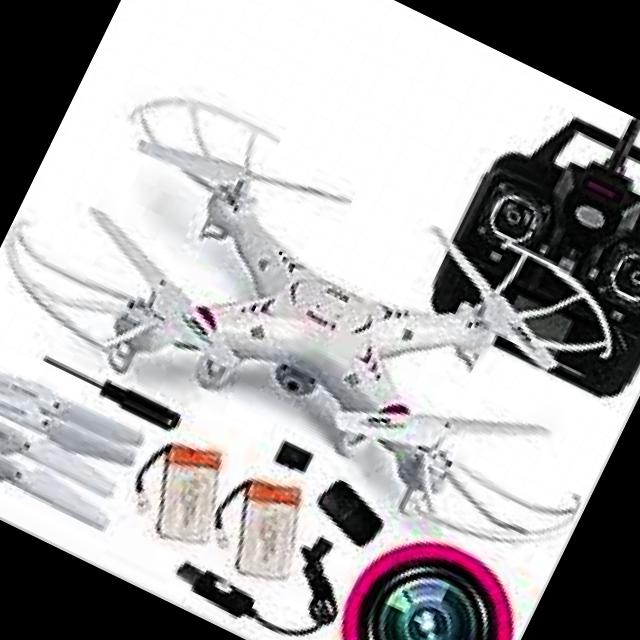drone: (0, 47, 640, 594)
